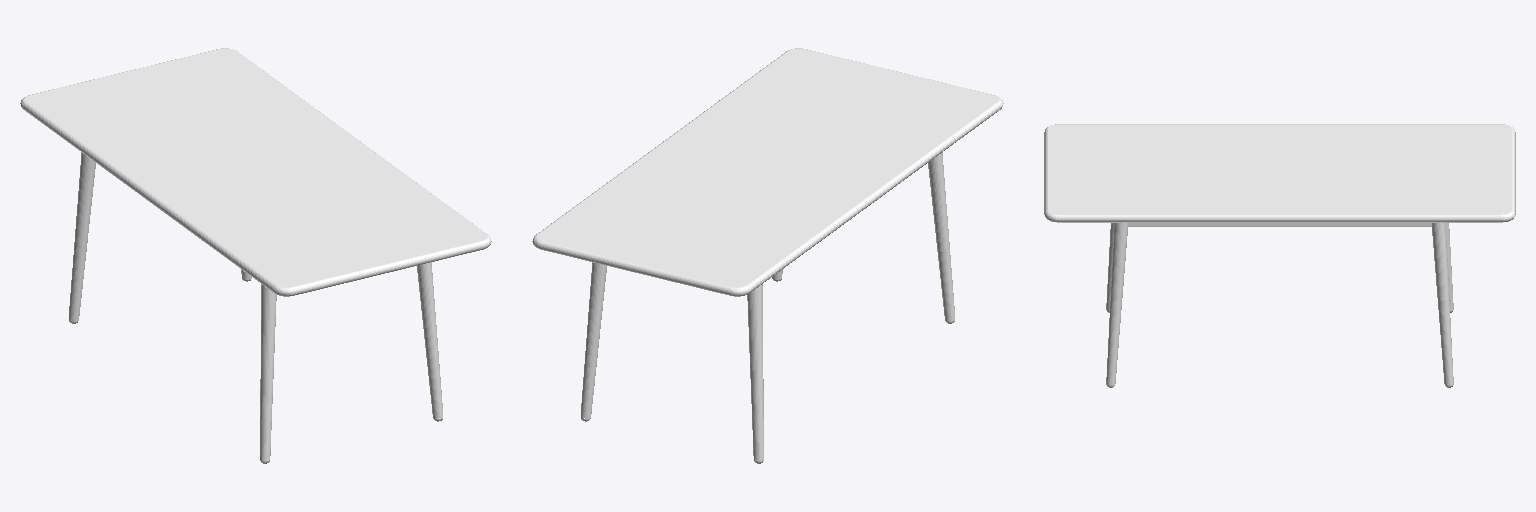
robot.urdf — table:
<?xml version="1.0"?>
<robot name="table">
    <material name="white">
        <color rgba="1.0 1.0 1.0 1.0"/>
    </material>

    <link name="table_link">
        <visual>
            <geometry>
                <mesh filename="table.obj"/>
            </geometry>
            <origin xyz="0 0 0" rpy="0 0 0"/>
            <material name="white"/>
        </visual>
        <collision>
            <geometry>
                <mesh filename="table_col.obj"/>
            </geometry>
            <origin xyz="0 0 0" rpy="0 0 0"/>
        </collision>

        <inertial>
           <mass value="25.0" />
           <origin xyz="0 0 0" rpy="0 0 0"/>
           <inertia ixx="2.5"  ixy="0"  ixz="0" iyy="2.5" iyz="0" izz="2.5" />
        </inertial>
    </link>
</robot>

--- Facts derived from the render (not from the file) ---
3 views of the same robot in one strip: view 1: azimuth 30°, elevation 25°; view 2: azimuth 150°, elevation 25°; view 3: azimuth 270°, elevation 25° (orthographic).
Model table with 1 links and 0 joints (none), rooted at table_link, posed all joints at 0.
Links seen in each view (by area): view 1: table_link; view 2: table_link; view 3: table_link.
Link boxes in pixels (x1,y1,x2,y2): table_link: (20, 48, 491, 463); table_link: (532, 48, 1003, 463); table_link: (1044, 124, 1515, 387).
Size in the robot's own frame: 0.827 by 1.76 by 0.7417 metres.
1 mesh visuals loaded from 1 distinct referenced files (1 OBJ).